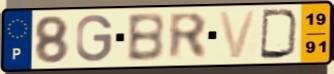8: (33, 14, 73, 65)
B: (125, 11, 167, 63)
D: (258, 8, 301, 60)
G: (75, 13, 115, 64)
R: (167, 12, 210, 62)
V: (217, 9, 259, 61)
